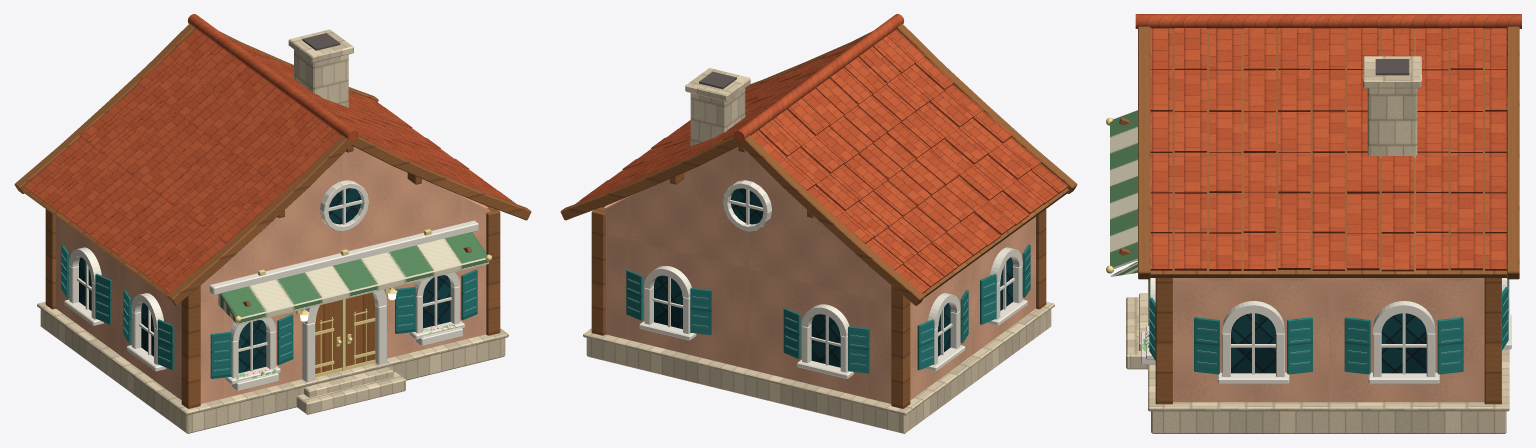
Rendered from market-salmon.glb.
The picture shows the model from 3 angles, left to right: view 1: azimuth 30°, elevation 25°; view 2: azimuth 150°, elevation 25°; view 3: azimuth 270°, elevation 25°; orthographic projection. The views are drawn at different scales.
Visible parts, largest first — view 1: market-salmon; view 2: market-salmon; view 3: market-salmon.
Boxes of the visible parts, x1,y1,x2,y2 form: market-salmon: [14, 14, 531, 433]; market-salmon: [560, 14, 1077, 433]; market-salmon: [1106, 14, 1521, 433].
Size of the model in its own units: 8.68 by 6.21 by 7.18.
15 materials, 8 textured.
